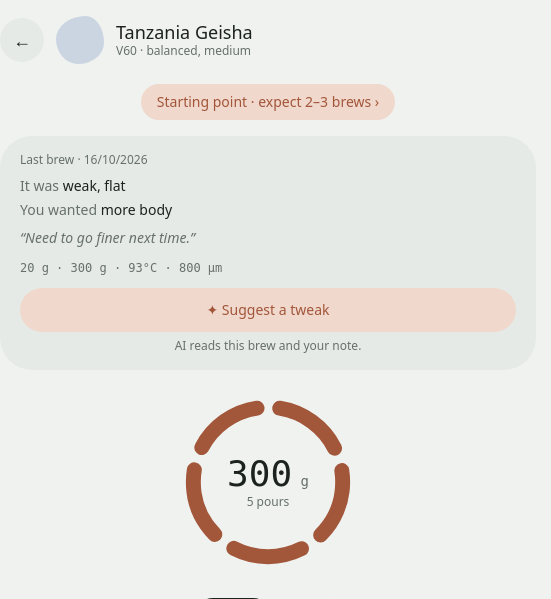
Test: Suggest a tweak › allows one retry after a failure, then stops offering
Click the button "✦ Suggest a tweak": (268, 310) x1=20 y1=288 x2=516 y2=332
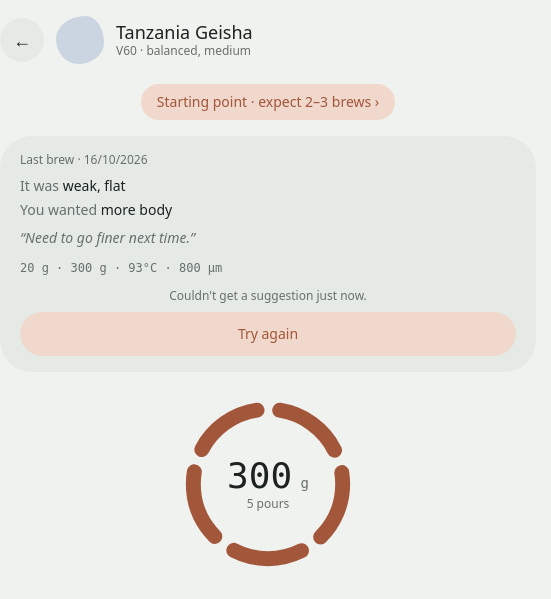
Click the button "Try again": (268, 334) x1=20 y1=312 x2=516 y2=356
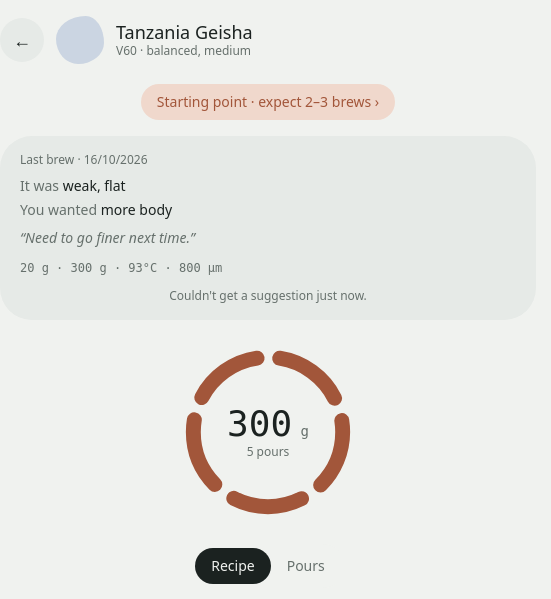
Now the text "Couldn't get a suggestion just now." is shown, box x1=169 y1=287 x2=367 y2=304
Now the button "Try again" is gone
